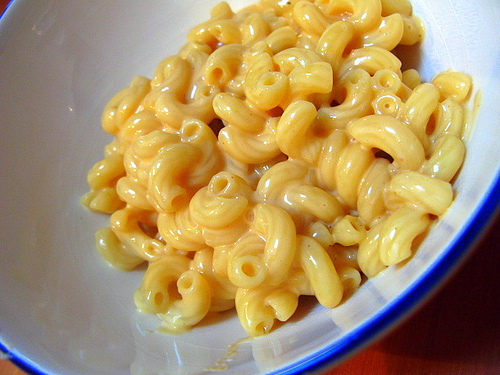macncheese: (74, 3, 472, 344)
